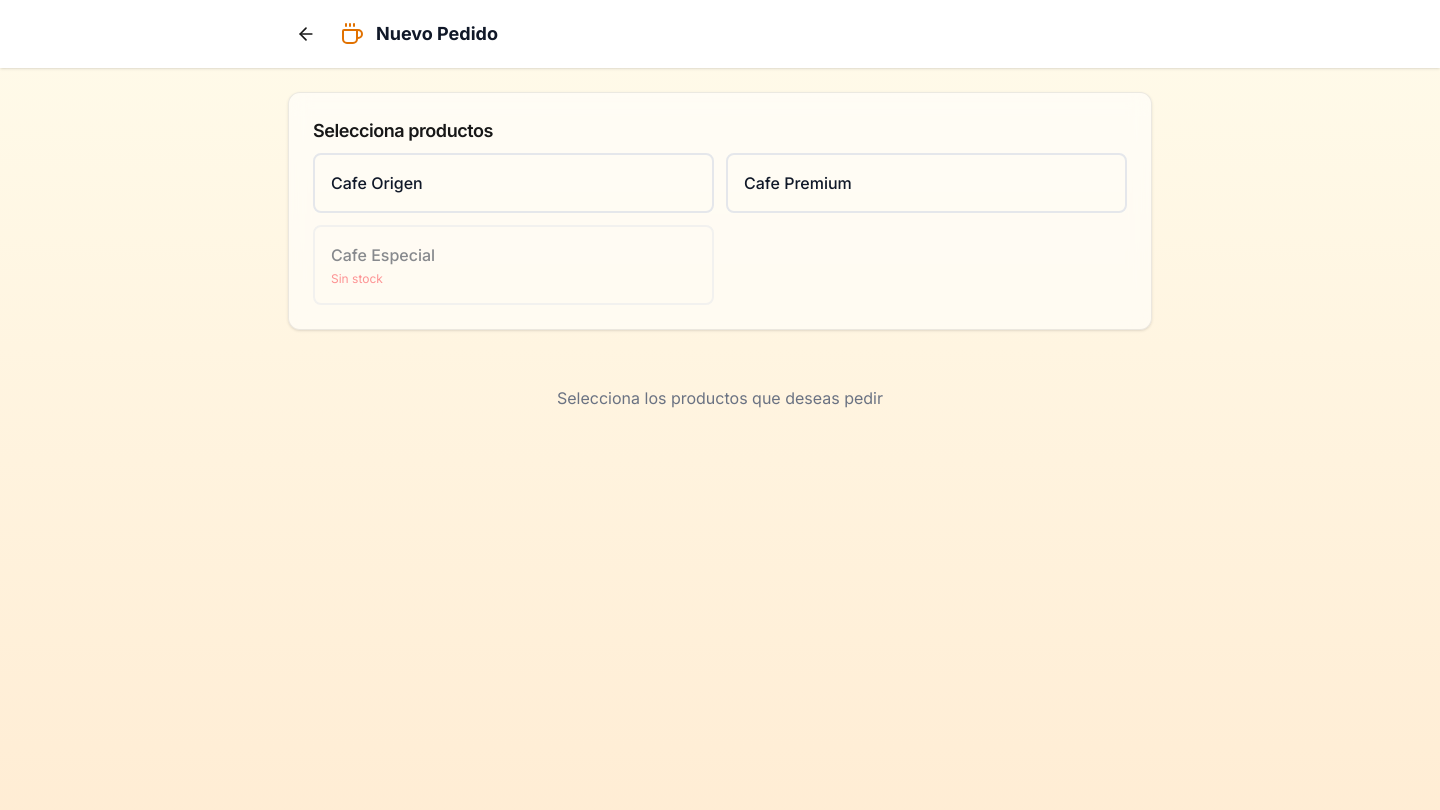
it: NuevoPedidoPage › Cart Management › should decrease quantity when minus button is clicked
Check: the text "Cafe Origen" is shown, box [331,173,423,193]
Add product once first
Click the button "Cafe Origen". click: [377, 183]
box: [313,153,714,213]
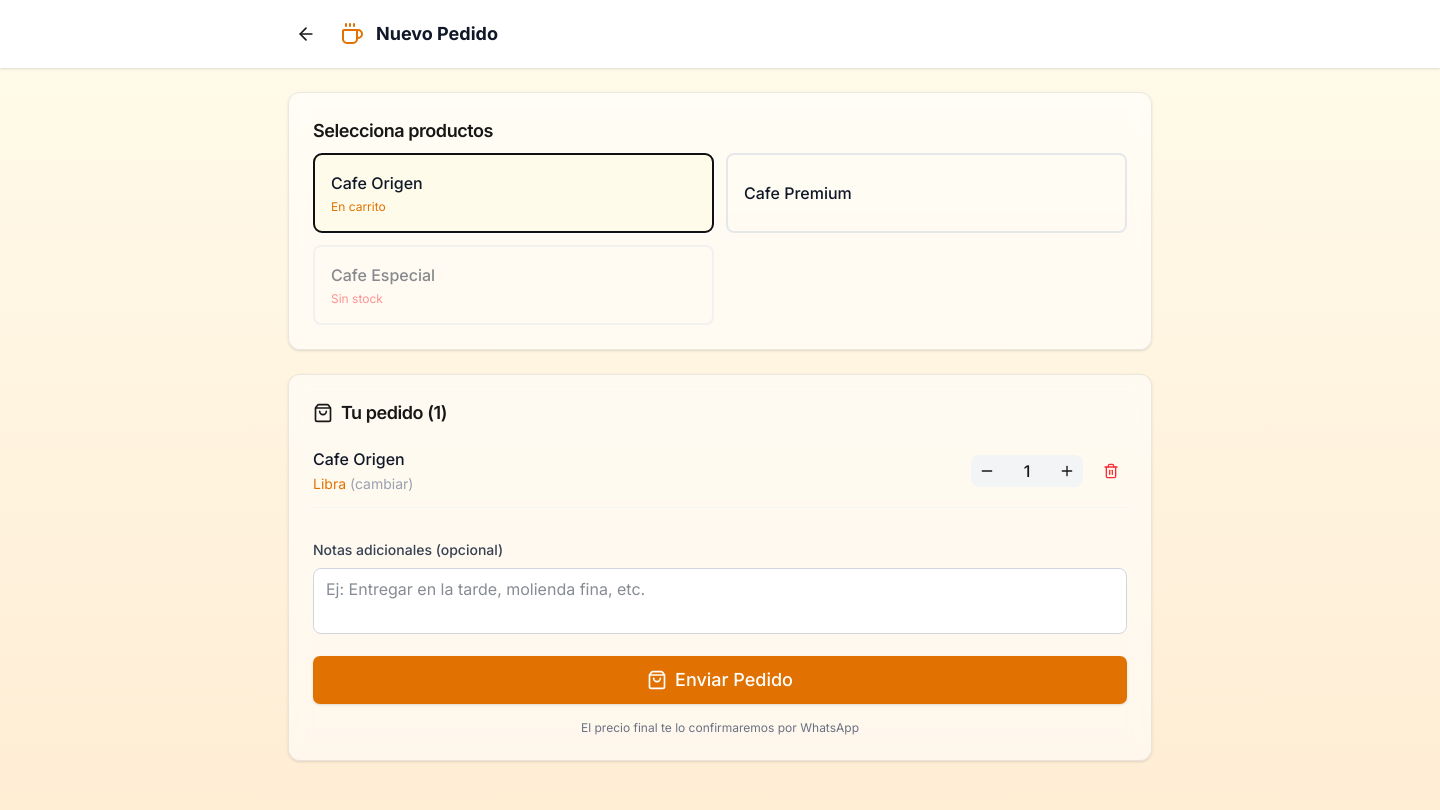
Check: the text "En carrito" is shown, box [331,199,386,214]
Add again to get quantity 2 (use getAllByText since text appears twice now)
Click the text "Cafe Origen" below "Selecciona productos". click: [377, 183]
box: [331,173,423,193]
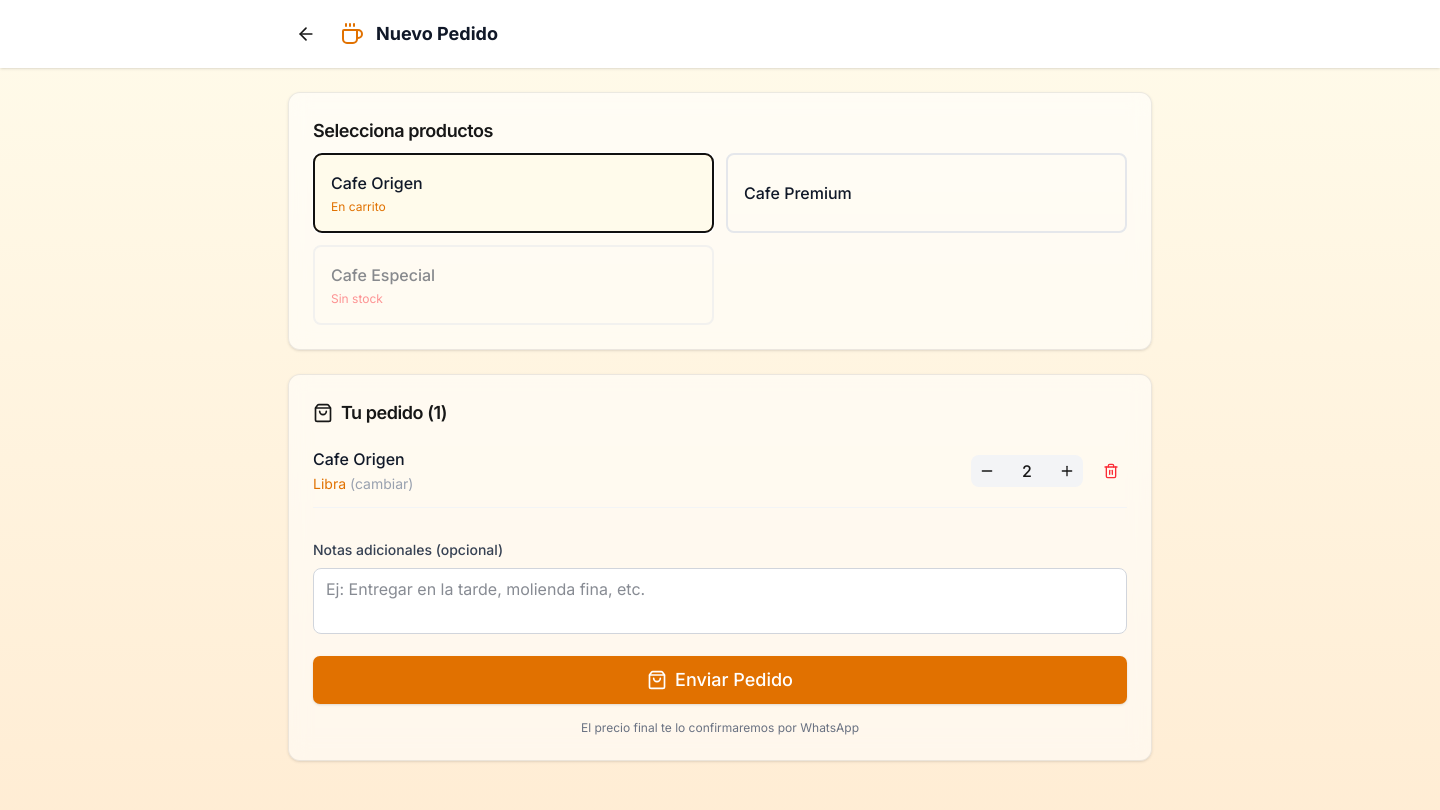
Check: the text "2" is shown, box [1022,461,1032,481]
Click the 5th button. click: [987, 471]
box: [971,455,1003,487]
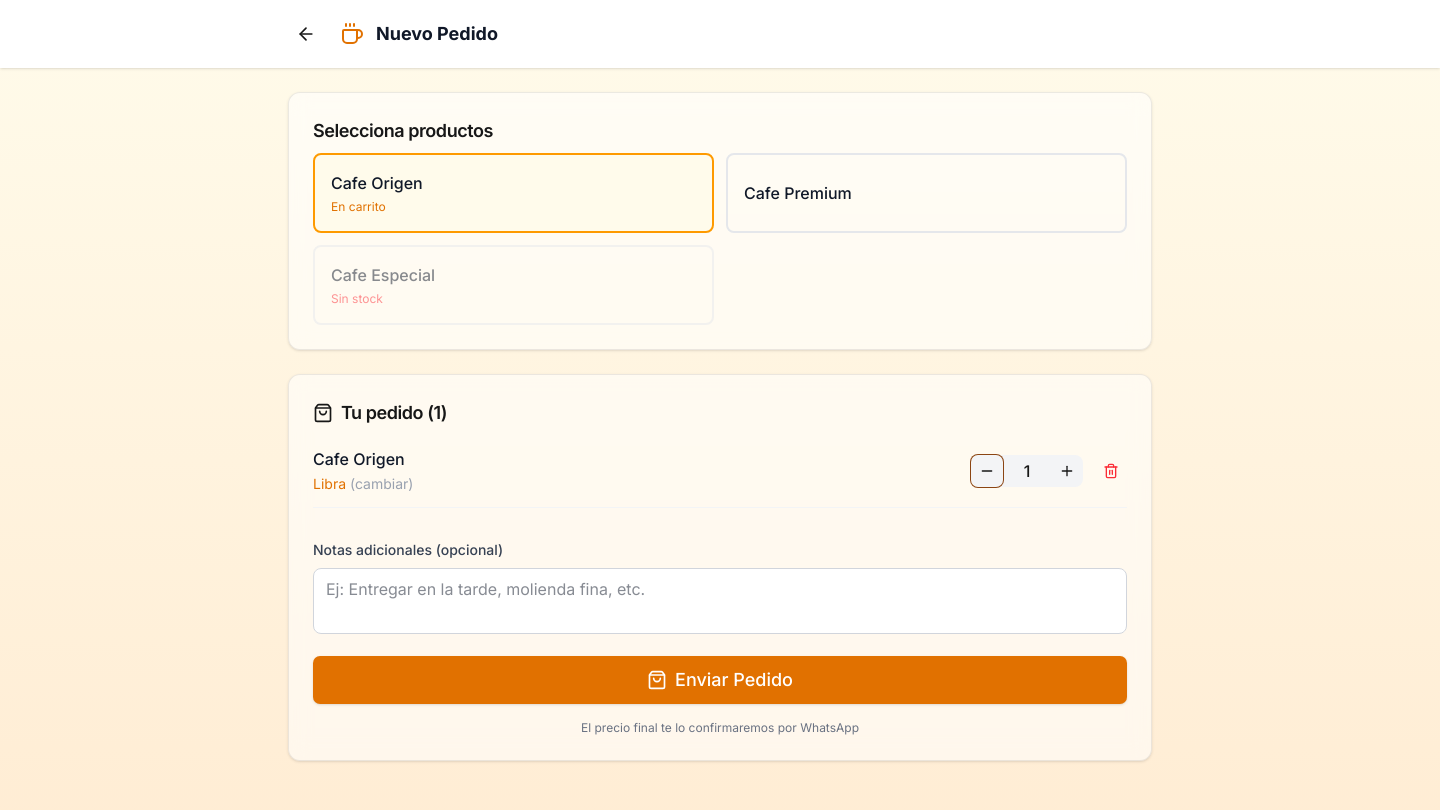
Check: the text "1" is shown, box [1024,461,1030,481]
